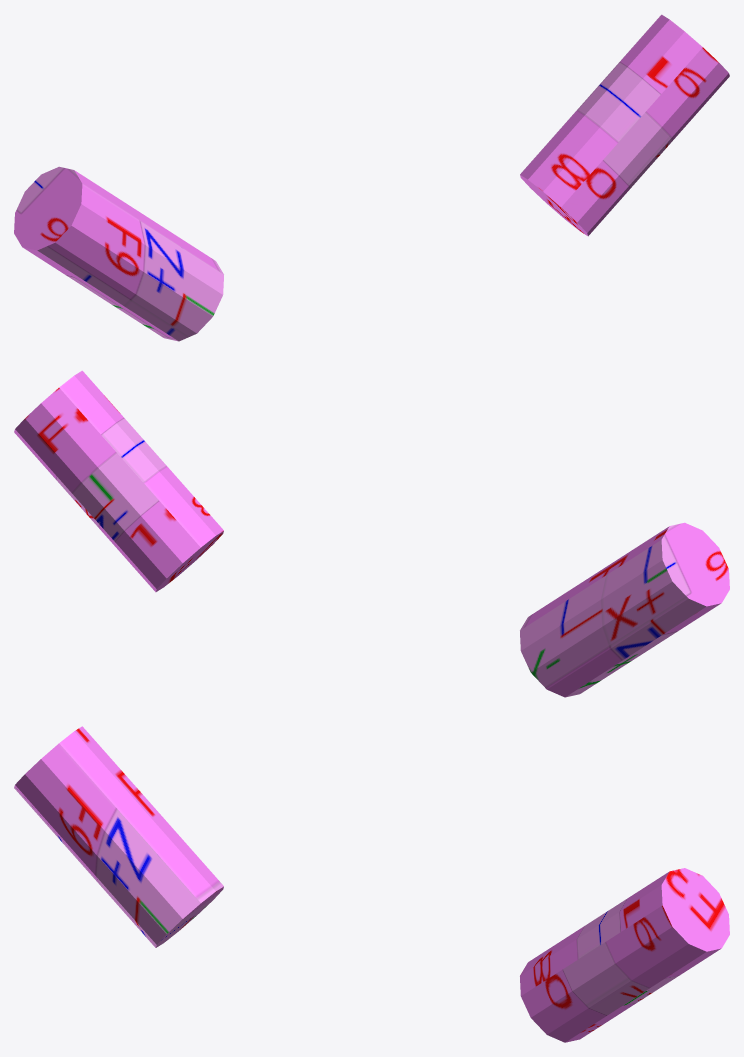
File: ears.obj
3 renders of one model, top to bottom at view 1: azimuth 30°, elevation 25°; view 2: azimuth 150°, elevation 25°; view 3: azimuth 330°, elevation 25°, orthographic.
Parts seen in each view (by area): view 1: obj.ears.000_Cylinder.001; view 2: obj.ears.000_Cylinder.001; view 3: obj.ears.000_Cylinder.001.
Boxes of the visible parts, x1=… form: obj.ears.000_Cylinder.001: x1=14, y1=14, x2=729, y2=341; obj.ears.000_Cylinder.001: x1=14, y1=370, x2=729, y2=697; obj.ears.000_Cylinder.001: x1=14, y1=726, x2=729, y2=1042.
Size of the model in its own units: 0.1735 by 0.0463 by 0.02.
